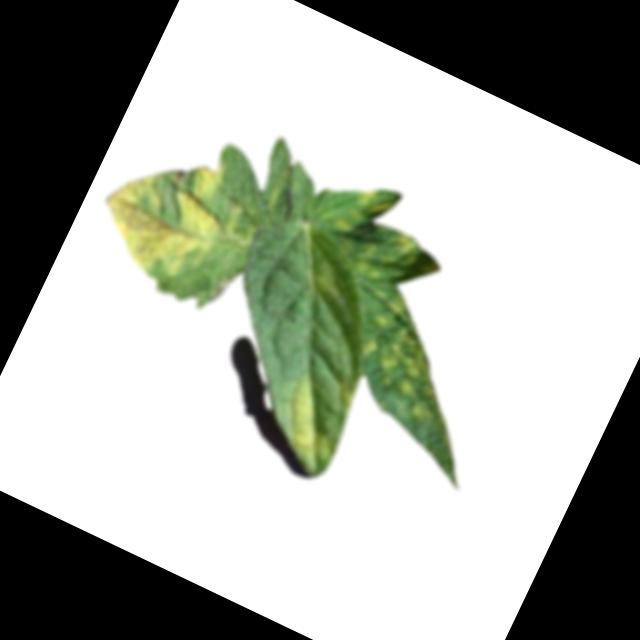Leaf_Mold: (85, 123, 261, 300), (337, 285, 489, 432), (267, 362, 363, 470), (331, 171, 403, 245), (382, 228, 428, 275)
